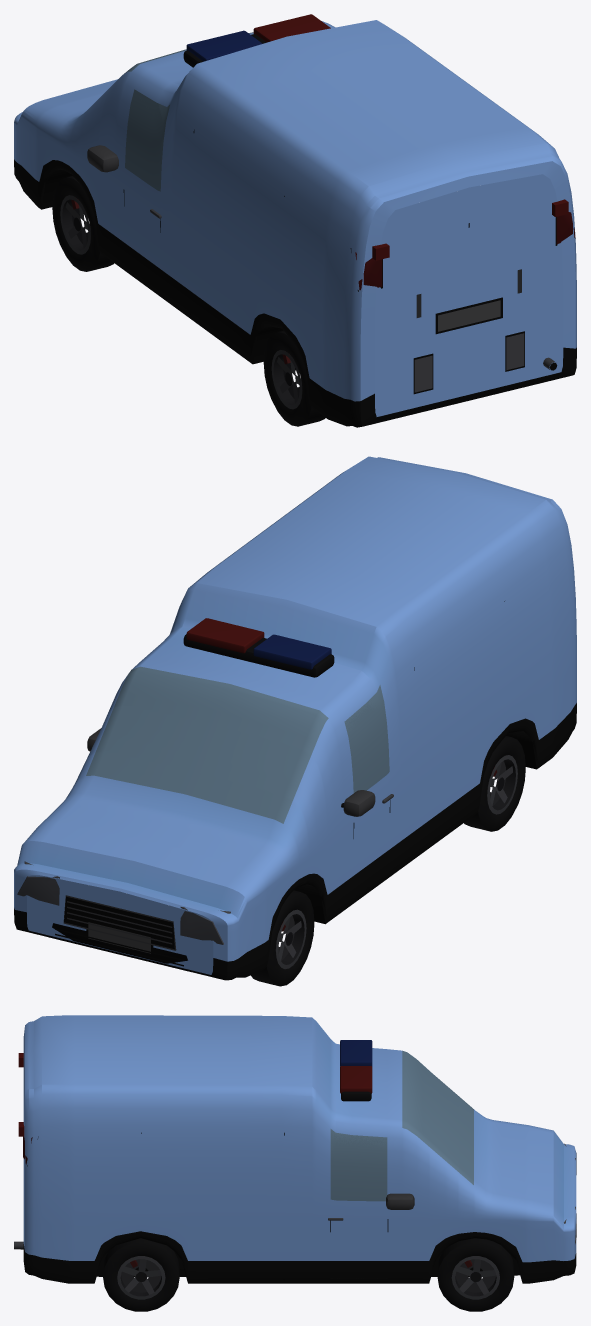
File: cv2_ambulance.glb
The picture shows the model from 3 angles, top to bottom: view 1: azimuth 30°, elevation 25°; view 2: azimuth 150°, elevation 25°; view 3: azimuth 270°, elevation 25°; orthographic projection. The views are drawn at different scales.
Visible parts, largest first — view 1: Body, DoorL_Mesh; view 2: Body, DoorL_Mesh; view 3: Body, DoorR_Mesh.
Boxes of the visible parts, left/top/right/bottom form: Body: left=14, top=14, right=576, bottom=427; DoorL_Mesh: left=124, top=89, right=169, bottom=291; Body: left=14, top=456, right=576, bottom=986; DoorL_Mesh: left=345, top=693, right=389, bottom=897; Body: left=14, top=1015, right=576, bottom=1311; DoorR_Mesh: left=330, top=1129, right=387, bottom=1278.
Size of what is drawn, in the model's own units: 2.46 by 2.43 by 5.5.
